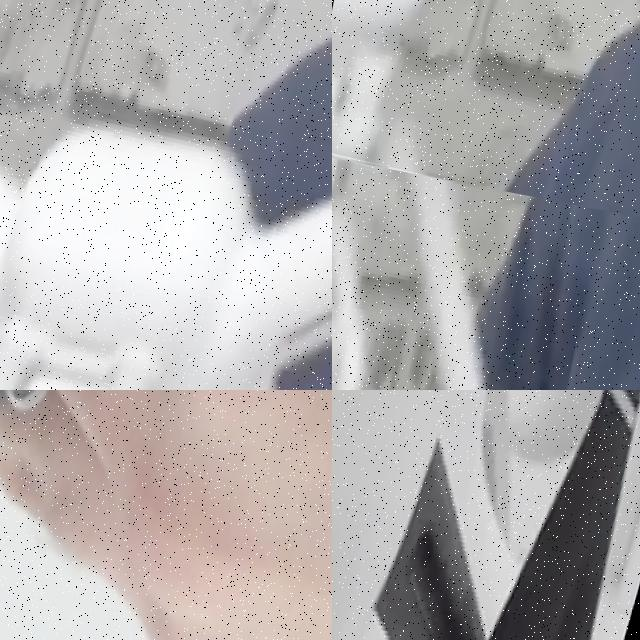drone: (0, 0, 332, 390), (0, 390, 332, 640), (332, 0, 640, 261), (332, 390, 640, 640)
